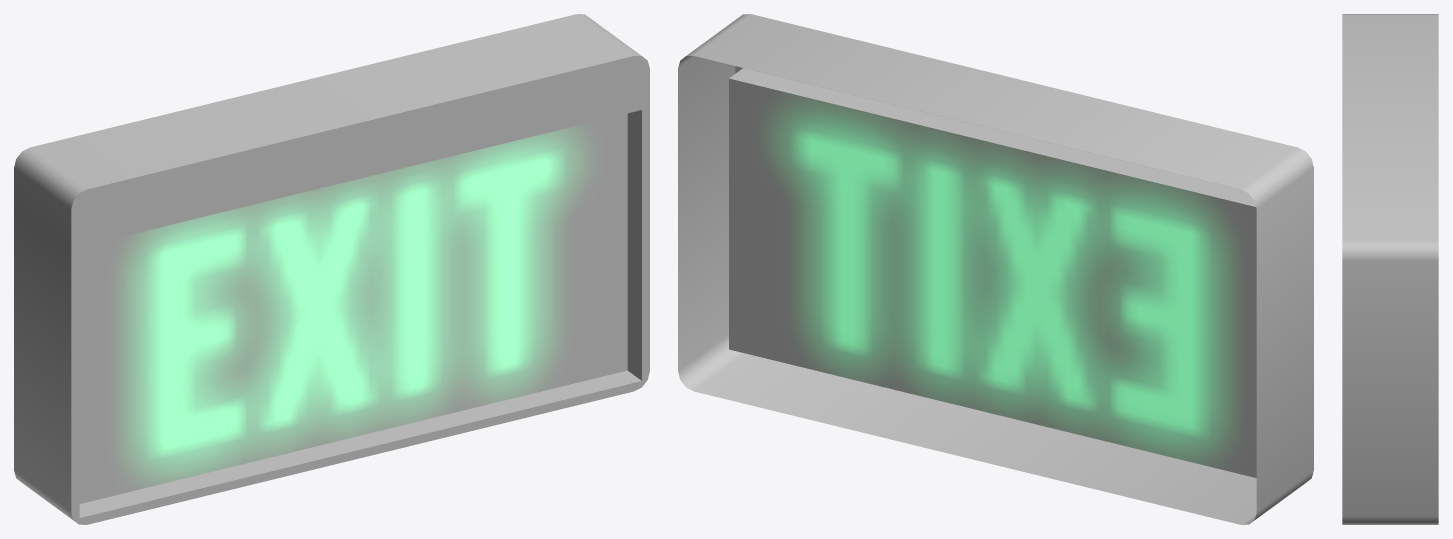
The model's file is SM_ExitSign1.fbx.
The picture shows the model from 3 angles, left to right: view 1: azimuth 30°, elevation 25°; view 2: azimuth 150°, elevation 25°; view 3: azimuth 270°, elevation 25°; orthographic projection. The views are drawn at different scales.
Visible parts, largest first — view 1: SM_ExitSign1_LOD0; view 2: SM_ExitSign1_LOD0; view 3: SM_ExitSign1_LOD0.
Boxes of the visible parts, x1,y1,x2,y2 form: SM_ExitSign1_LOD0: (14,14,649,524); SM_ExitSign1_LOD0: (678,14,1313,524); SM_ExitSign1_LOD0: (1342,14,1438,524).
Size of the model in its own units: 40.07 by 6.86 by 22.2.
